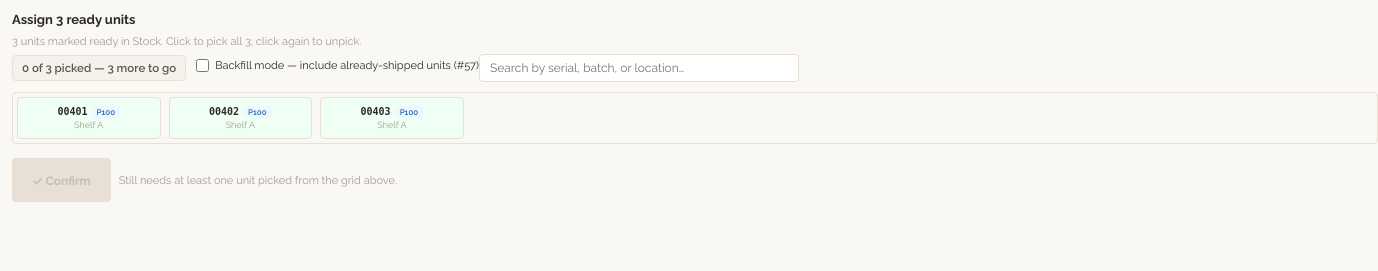
Test case: StepAssign — picking the machines an order is for › shows the error from a refused assignment and stays on the step
Click the text "00401" at point(89, 112), box [57,106,120,118]
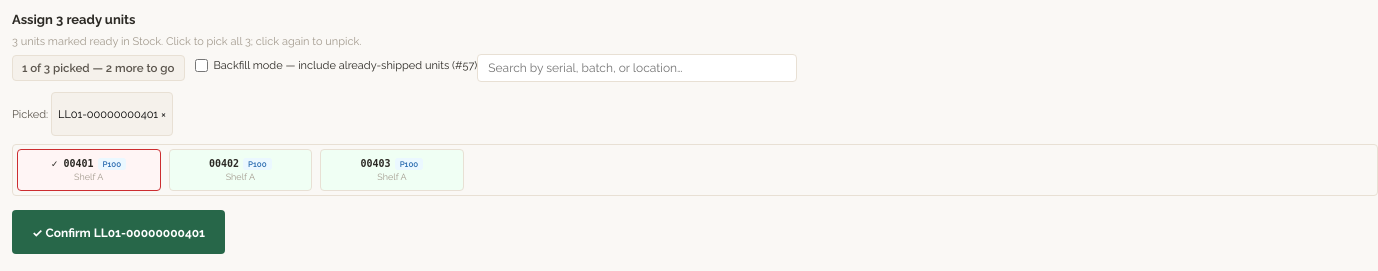
Click the text "00402" at point(240, 164), box [209,158,272,170]
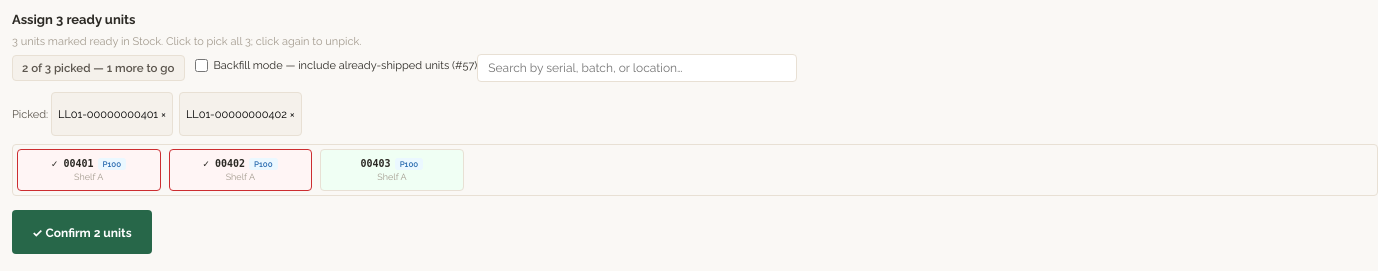
Click the text "00403" at point(392, 164), box [360,158,423,170]
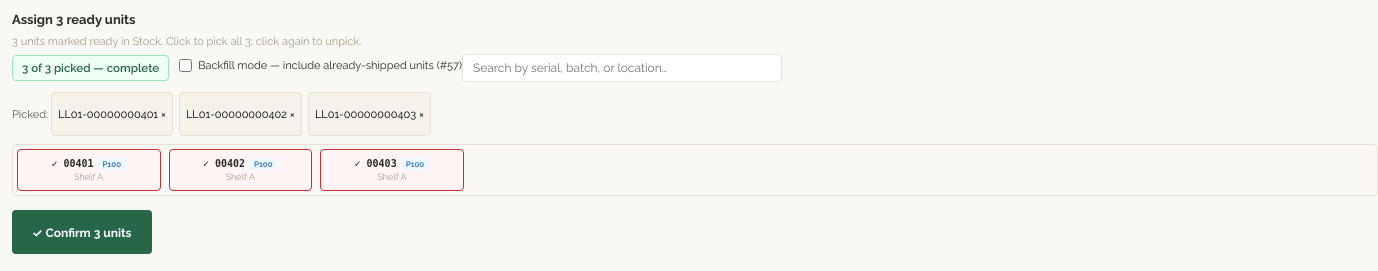
Click the button "✓ Confirm 3 units" at point(82, 232), box [12,210,152,254]
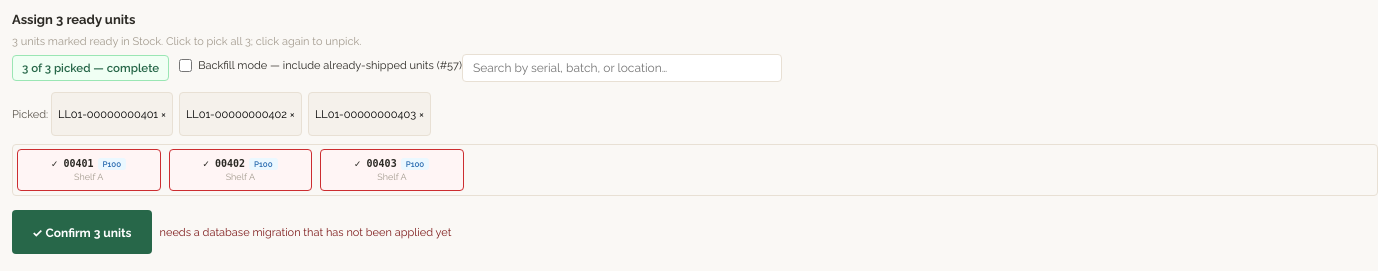
Expected: the text "3 of 3 picked — complete" is shown, [12,55,169,81]
Expected: the text "needs a database migration that has not been applied yet" is shown, [160,226,451,238]
